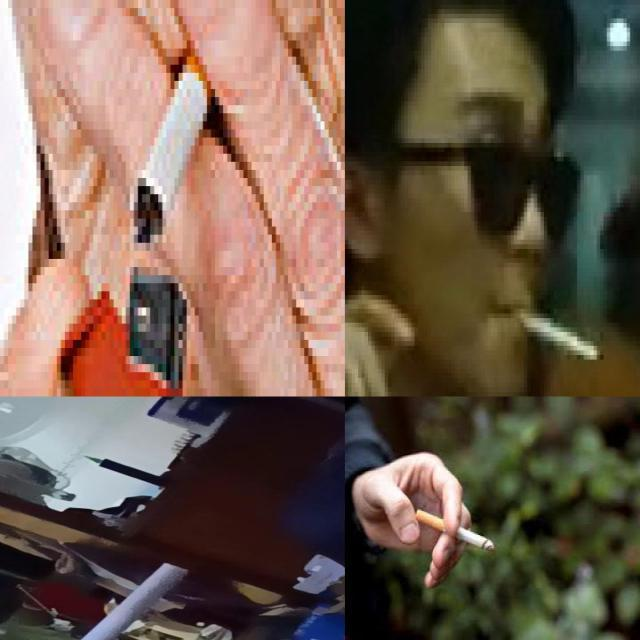smoking: (129, 20, 227, 248), (30, 560, 191, 640), (510, 301, 604, 364), (416, 508, 494, 552)
